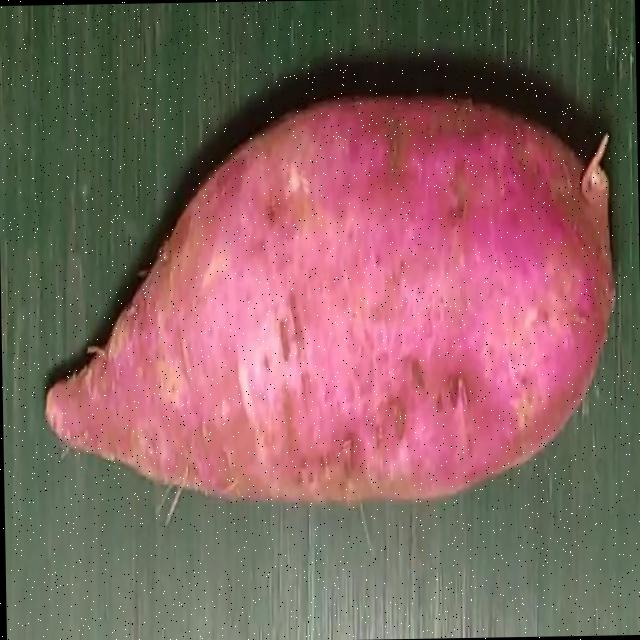Sweet Potato: (41, 94, 613, 500)
